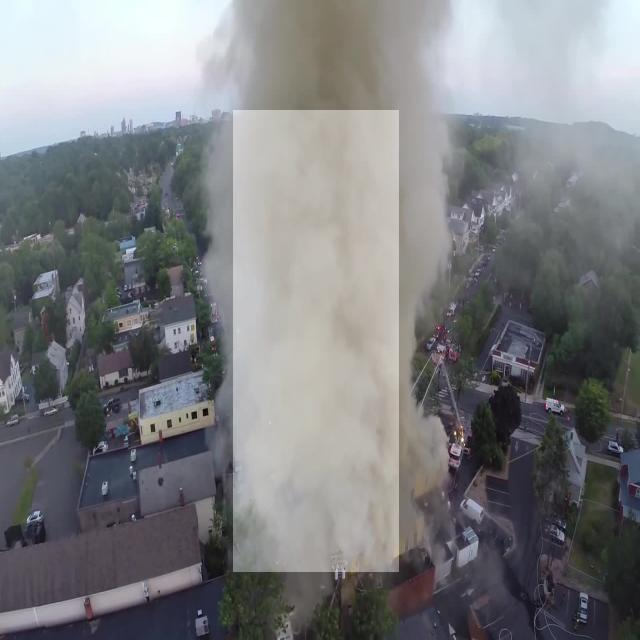Smoke: (233, 110, 399, 572)
